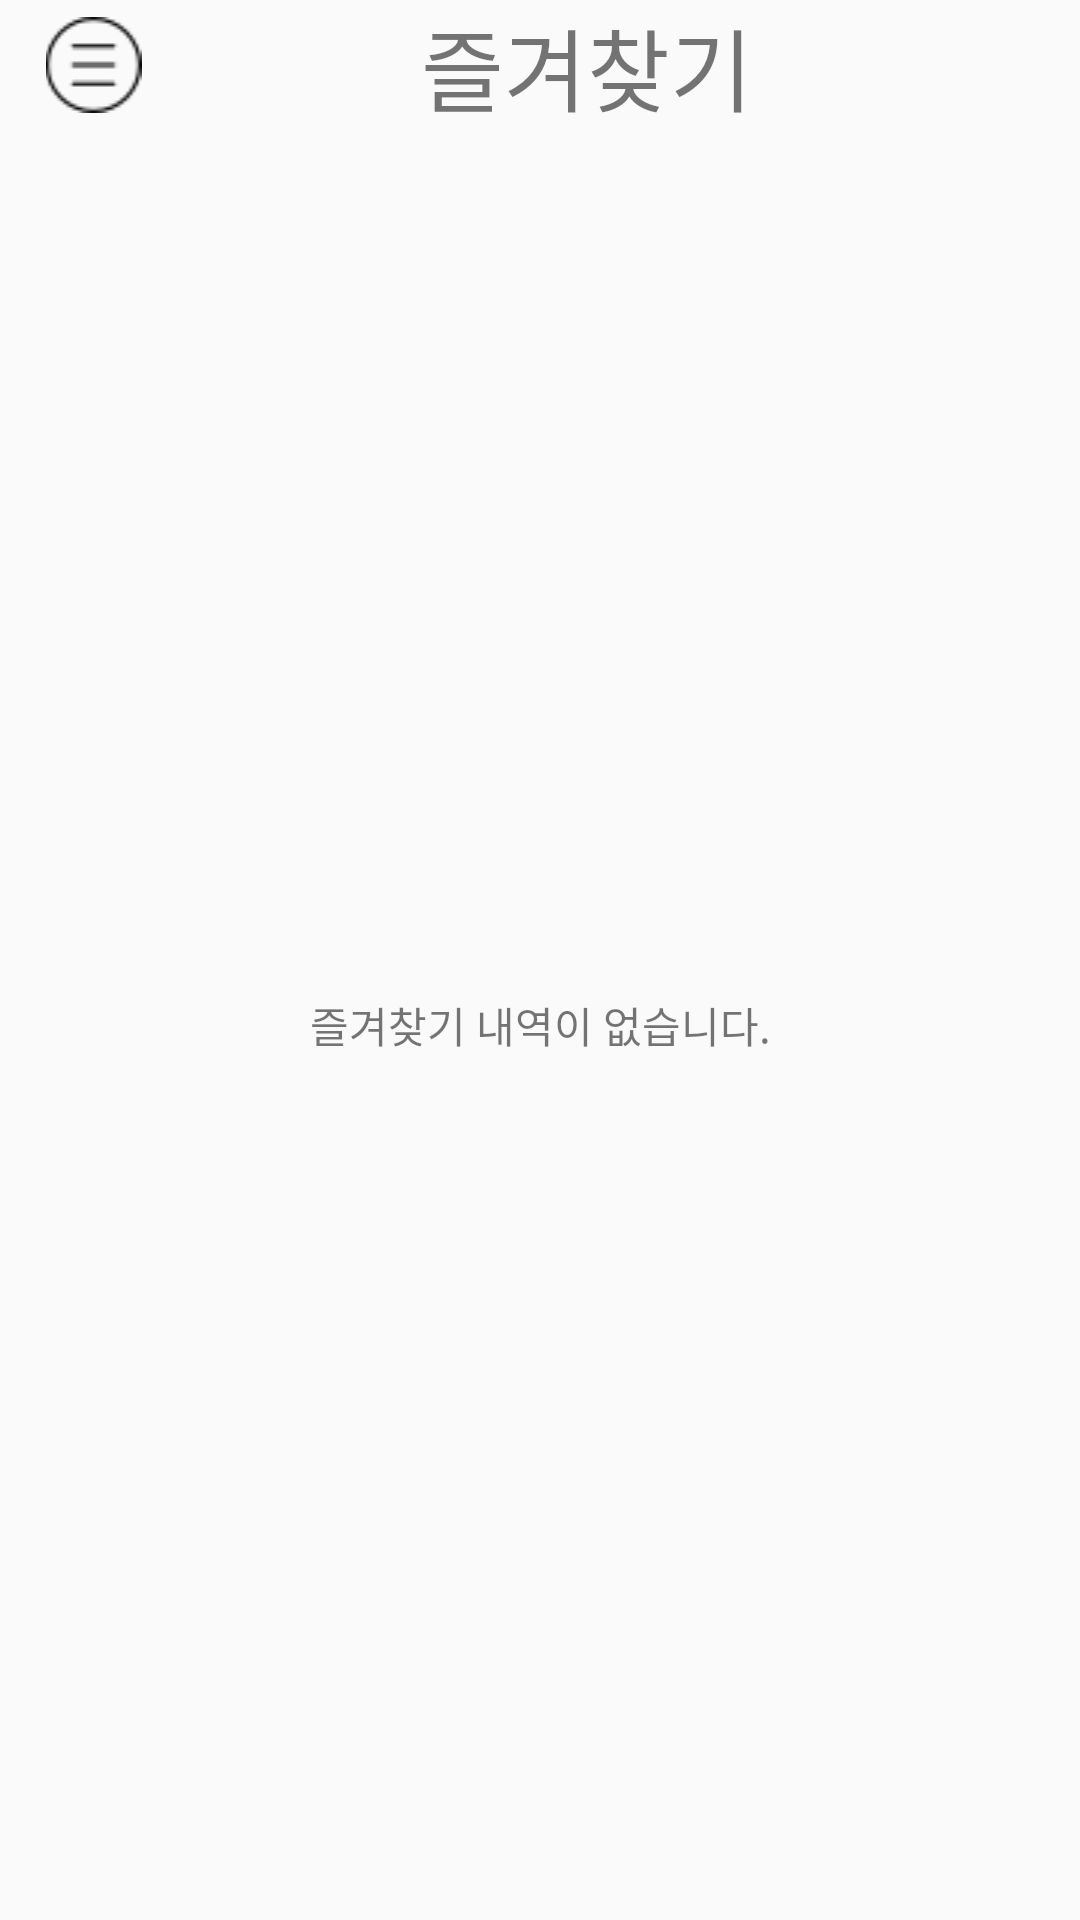

Icons on this 1080 x 1920 Android screen, each with the point to tap as point (x, y):
menu: point (94, 65)
